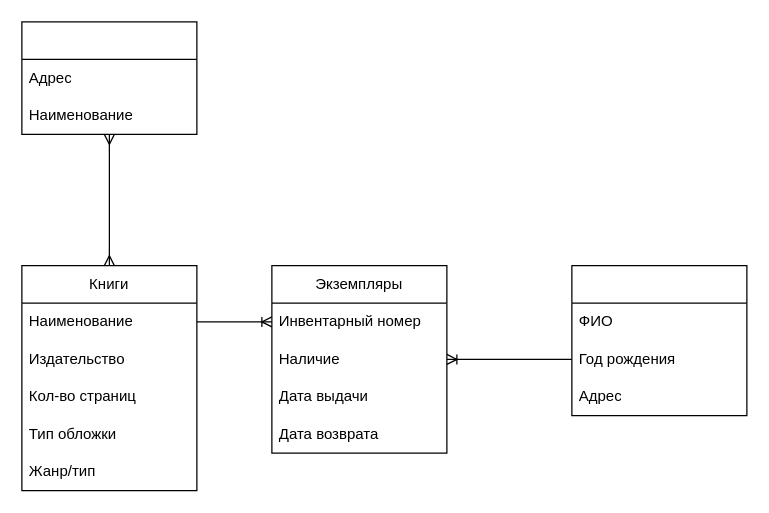
Image size: 769x513. Some labels were removed from this diagram. The box of each missing label's shape, as (x1, y1, x2, y2) in pixels:
Филиал: (21, 21, 197, 134)
Читатели: (571, 264, 747, 416)
